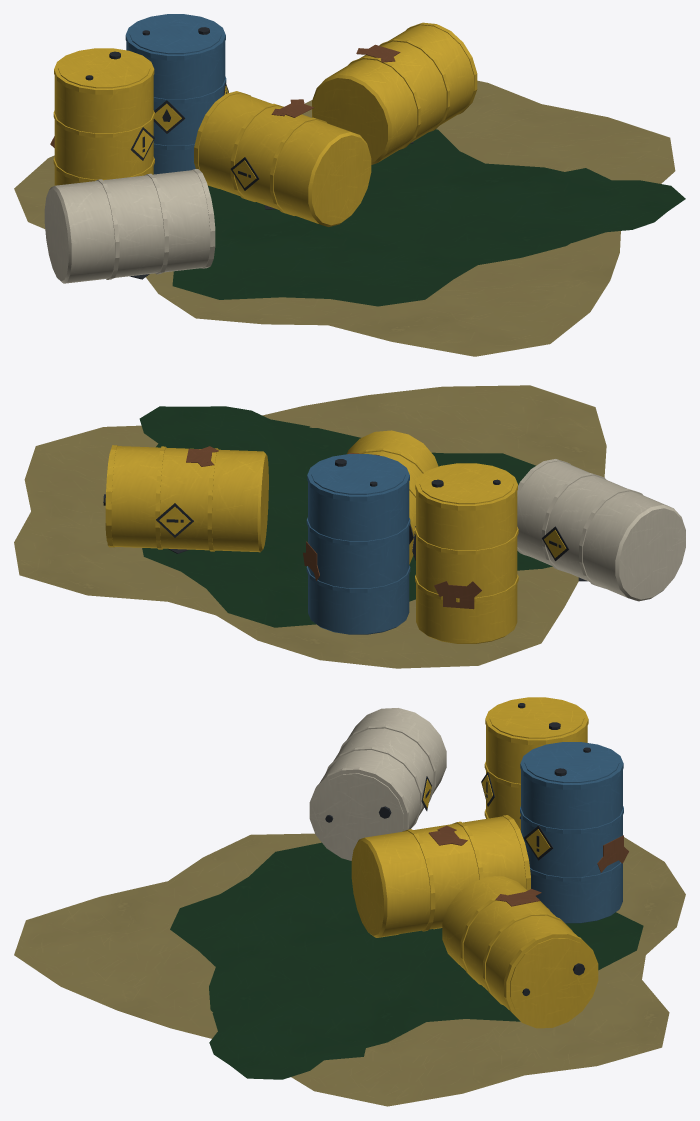
File: chemical_drums.glb
3 renders of one model, top to bottom at view 1: azimuth 30°, elevation 25°; view 2: azimuth 150°, elevation 25°; view 3: azimuth 270°, elevation 25°, orthographic. The views are drawn at different scales.
Visible parts, largest first — view 1: chemical_drums; view 2: chemical_drums; view 3: chemical_drums.
Boxes of the visible parts, x1,y1,x2,y2 form: chemical_drums: (14,14,685,356); chemical_drums: (14,385,685,668); chemical_drums: (14,697,685,1106).
Bounding box in the file's own units: 4.19 × 0.91 × 3.83.
8 materials, 8 textured.
